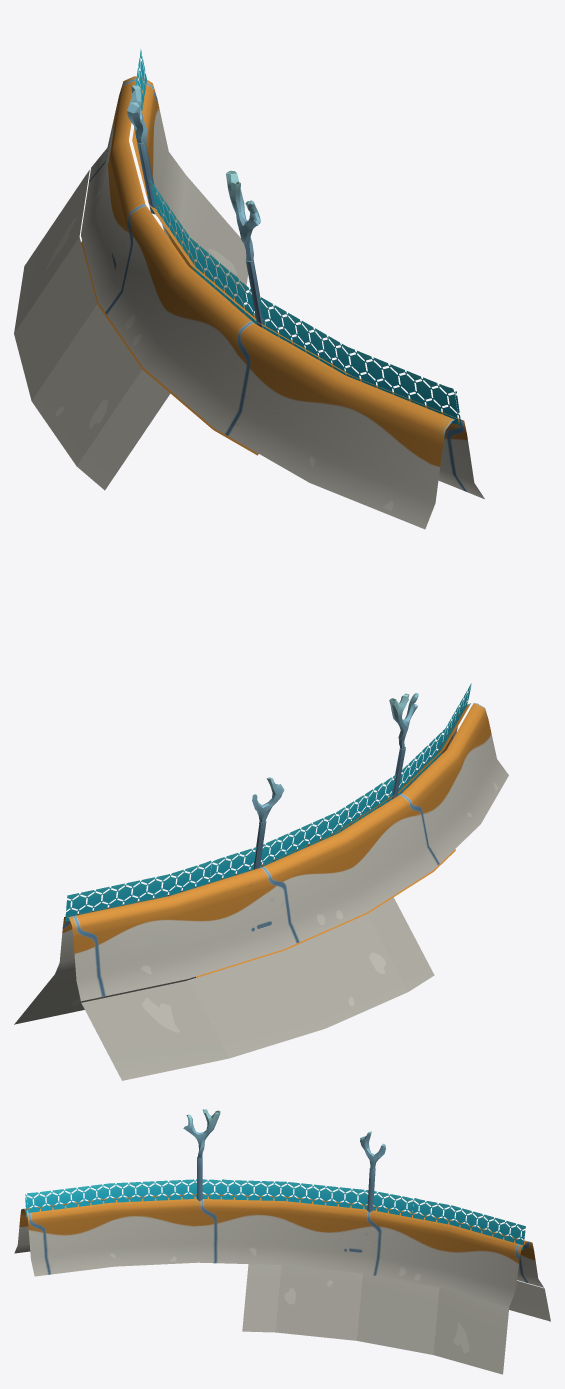
Rendered from S_Wall_09.fbx.
The picture shows the model from 3 angles, top to bottom: view 1: azimuth 30°, elevation 25°; view 2: azimuth 150°, elevation 25°; view 3: azimuth 270°, elevation 25°; orthographic projection. The views are drawn at different scales.
Visible parts, largest first — view 1: S_Wall_09; view 2: S_Wall_09; view 3: S_Wall_09.
Part boxes in pixels (left/top/right/bottom): S_Wall_09: left=14, top=49, right=484, bottom=529; S_Wall_09: left=14, top=683, right=508, bottom=1080; S_Wall_09: left=14, top=1109, right=550, bottom=1374.
Size of the model in its own units: 496 by 427 by 1095.
1 material, 1 textured.
